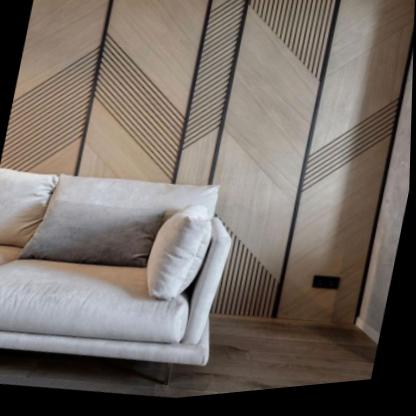Sofa: (0, 144, 251, 401)
Wall Panel: (0, 0, 415, 335)
Wooden floor: (0, 319, 379, 402)
